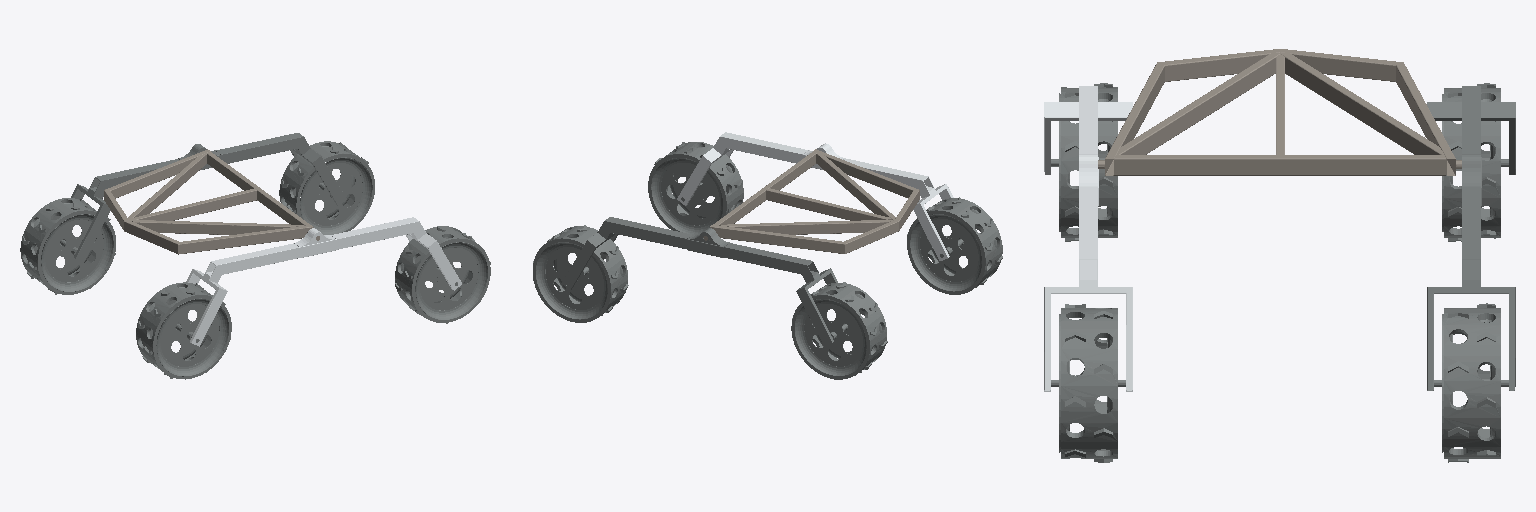
The robot description file, URDF, robot "finalassemdoneright":
<?xml version="1.0"?>
<!-- This URDF was automatically created by SolidWorks to URDF Exporter! Originally created by [author] ([email redacted]) 
     Commit Version: 1.6.0-4-g7f85cfe  Build Version: 1.6.7995.38578
     For more information, please see http://wiki.ros.org/sw_urdf_exporter -->
<robot name="finalassemdoneright">
  <link name="rover_base">
    <inertial>
      <origin xyz="-0.215633362072026 9.56646294919539E-06 -0.0191770149708499" rpy="0 0 0" />
      <mass value="3.38632551346396" />
      <inertia ixx="0.0339951534702215" ixy="4.07301137981989E-07" ixz="2.1569330359615E-09" iyy="0.0473454419155019" iyz="-1.19495167767491E-10" izz="0.0801303818373678" />
    </inertial>
    <visual>
      <origin xyz="0 0 0" rpy="0 0 0" />
      <geometry>
        <mesh filename="package://finalassemdoneright/meshes/rover_base.STL" />
      </geometry>
      <material name="">
        <color rgba="0.647058823529412 0.619607843137255 0.588235294117647 1" />
      </material>
    </visual>
    <collision>
      <origin xyz="0 0 0" rpy="0 0 0" />
      <geometry>
        <mesh filename="package://finalassemdoneright/meshes/rover_base.STL" />
      </geometry>
    </collision>
  </link>
  <link name="Left_arm">
    <inertial>
      <origin xyz="-0.000256566433952554 0.0831497310894191 -0.000723080155142997" rpy="0 0 0" />
      <mass value="3.92316481248626" />
      <inertia ixx="0.0052807689036577" ixy="6.52589354477702E-08" ixz="9.75504870574046E-11" iyy="0.106186347196482" iyz="1.4999457750013E-10" izz="0.108137196053463" />
    </inertial>
    <visual>
      <origin xyz="0 0 0" rpy="0 0 0" />
      <geometry>
        <mesh filename="package://finalassemdoneright/meshes/Left_arm.STL" />
      </geometry>
      <material name="">
        <color rgba="0.529411764705882 0.549019607843137 0.549019607843137 1" />
      </material>
    </visual>
    <collision>
      <origin xyz="0 0 0" rpy="0 0 0" />
      <geometry>
        <mesh filename="package://finalassemdoneright/meshes/Left_arm.STL" />
      </geometry>
    </collision>
  </link>
  <joint name="LeftArm" type="revolute">
    <origin xyz="-0.0030459 0.3865 -0.019177" rpy="-1.5708 0.02417 -3.9896E-05" />
    <parent link="rover_base" />
    <child link="Left_arm" />
    <axis xyz="0 0 -1" />
    <limit lower="0" upper="0" effort="0" velocity="0" />
  </joint>
  <link name="Front_left_wheel">
    <inertial>
      <origin xyz="3.38719052805914E-09 1.95898309296449E-07 0.00123583012451922" rpy="0 0 0" />
      <mass value="2.15759144628966" />
      <inertia ixx="0.0193867868934573" ixy="-3.68743577331306E-08" ixz="2.28589587219819E-08" iyy="0.0193867834497432" iyz="-7.59597356737873E-09" izz="0.035931581449621" />
    </inertial>
    <visual>
      <origin xyz="0 0 0" rpy="0 0 0" />
      <geometry>
        <mesh filename="package://finalassemdoneright/meshes/Front_left_wheel.STL" />
      </geometry>
      <material name="">
        <color rgba="0.529411764705882 0.549019607843137 0.549019607843137 1" />
      </material>
    </visual>
    <collision>
      <origin xyz="0 0 0" rpy="0 0 0" />
      <geometry>
        <mesh filename="package://finalassemdoneright/meshes/Front_left_wheel.STL" />
      </geometry>
    </collision>
  </link>
  <joint name="FrontLeftWheel" type="continuous">
    <origin xyz="0.500099209351754 0.244618225407582 -0.000762000000002039" rpy="0 0 -0.0241704449199232" />
    <parent link="Left_arm" />
    <child link="Front_left_wheel" />
    <axis xyz="0 0 1" />
  </joint>
  <link name="Rear_left_wheel">
    <inertial>
      <origin xyz="3.38719002845878E-09 1.95898309074405E-07 0.00123583012451955" rpy="0 0 0" />
      <mass value="2.15759144628965" />
      <inertia ixx="0.0193867868934574" ixy="-3.68743577242217E-08" ixz="2.28589587246662E-08" iyy="0.019386783449743" iyz="-7.59597356728696E-09" izz="0.0359315814496209" />
    </inertial>
    <visual>
      <origin xyz="0 0 0" rpy="0 0 0" />
      <geometry>
        <mesh filename="package://finalassemdoneright/meshes/Rear_left_wheel.STL" />
      </geometry>
      <material name="">
        <color rgba="0.529411764705882 0.549019607843137 0.549019607843137 1" />
      </material>
    </visual>
    <collision>
      <origin xyz="0 0 0" rpy="0 0 0" />
      <geometry>
        <mesh filename="package://finalassemdoneright/meshes/Rear_left_wheel.STL" />
      </geometry>
    </collision>
  </link>
  <joint name="RearLeftWheel" type="continuous">
    <origin xyz="-0.500660790648241 0.244618225407579 -0.000762000000000707" rpy="0 0 -0.0241704449199232" />
    <parent link="Left_arm" />
    <child link="Rear_left_wheel" />
    <axis xyz="0 0 1" />
  </joint>
  <link name="Right_arm">
    <inertial>
      <origin xyz="-0.00231308206858527 0.0831179478688312 -0.000723080155048211" rpy="0 0 0" />
      <mass value="3.92316481243412" />
      <inertia ixx="0.00534249487807238" ixy="-0.00249493187347114" ixz="9.3806783112558E-11" iyy="0.106124621225874" iyz="1.52360423948609E-10" izz="0.10813719605729" />
    </inertial>
    <visual>
      <origin xyz="0 0 0" rpy="0 0 0" />
      <geometry>
        <mesh filename="package://finalassemdoneright/meshes/Right_arm.STL" />
      </geometry>
      <material name="">
        <color rgba="0.898039215686275 0.917647058823529 0.929411764705882 1" />
      </material>
    </visual>
    <collision>
      <origin xyz="0 0 0" rpy="0 0 0" />
      <geometry>
        <mesh filename="package://finalassemdoneright/meshes/Right_arm.STL" />
      </geometry>
    </collision>
  </link>
  <joint name="RightArm" type="revolute">
    <origin xyz="-0.0030767 -0.38676 -0.019177" rpy="-1.5708 0 -3.9896E-05" />
    <parent link="rover_base" />
    <child link="Right_arm" />
    <axis xyz="0 0 1" />
    <limit lower="0" upper="0" effort="0" velocity="0" />
  </joint>
  <link name="Front_right_wheel">
    <inertial>
      <origin xyz="7.94071999266066E-08 1.11401112168341E-07 0.0012358239781311" rpy="0 0 0" />
      <mass value="2.15759094085748" />
      <inertia ixx="0.0193867614947669" ixy="-2.32531028203293E-08" ixz="2.21377761754815E-08" iyy="0.0193868129604204" iyz="-1.68070612577714E-08" izz="0.0359315855993195" />
    </inertial>
    <visual>
      <origin xyz="0 0 0" rpy="0 0 0" />
      <geometry>
        <mesh filename="package://finalassemdoneright/meshes/Front_right_wheel.STL" />
      </geometry>
      <material name="">
        <color rgba="0.529411764705882 0.549019607843137 0.549019607843137 1" />
      </material>
    </visual>
    <collision>
      <origin xyz="0 0 0" rpy="0 0 0" />
      <geometry>
        <mesh filename="package://finalassemdoneright/meshes/Front_right_wheel.STL" />
      </geometry>
    </collision>
  </link>
  <joint name="FrontRightWheel" type="continuous">
    <origin xyz="0.493895922533436 0.256912656559873 -0.000762000000002372" rpy="0 0 0" />
    <parent link="Right_arm" />
    <child link="Front_right_wheel" />
    <axis xyz="0 0 1" />
  </joint>
  <link name="Rear_right_wheel">
    <inertial>
      <origin xyz="3.38719058357029E-09 1.95898309296449E-07 0.00123583012451853" rpy="0 0 0" />
      <mass value="2.15759144628968" />
      <inertia ixx="0.0193867868934575" ixy="-3.68743577382929E-08" ixz="2.28589587110465E-08" iyy="0.0193867834497432" iyz="-7.59597356524807E-09" izz="0.0359315814496211" />
    </inertial>
    <visual>
      <origin xyz="0 0 0" rpy="0 0 0" />
      <geometry>
        <mesh filename="package://finalassemdoneright/meshes/Rear_right_wheel.STL" />
      </geometry>
      <material name="">
        <color rgba="0.529411764705882 0.549019607843137 0.549019607843137 1" />
      </material>
    </visual>
    <collision>
      <origin xyz="0 0 0" rpy="0 0 0" />
      <geometry>
        <mesh filename="package://finalassemdoneright/meshes/Rear_right_wheel.STL" />
      </geometry>
    </collision>
  </link>
  <joint name="RearRightWheel" type="continuous">
    <origin xyz="-0.506557922109957 0.232160235703112 -0.000762000000003649" rpy="0 0 0" />
    <parent link="Right_arm" />
    <child link="Rear_right_wheel" />
    <axis xyz="0 0 1" />
  </joint>
</robot>

--- Facts derived from the render (not from the file) ---
Views: 3 orthographic renders of the robot side by side, from view 1: azimuth 30°, elevation 25°; view 2: azimuth 150°, elevation 25°; view 3: azimuth 270°, elevation 25°.
Robot: finalassemdoneright — 7 links, 6 joints (2 revolute, 4 continuous); root link rover_base; default pose: all joints at 0.
Visible links, largest first — view 1: rover_base, Rear_left_wheel, Rear_right_wheel, Front_right_wheel, Front_left_wheel, Right_arm, Left_arm; view 2: rover_base, Rear_left_wheel, Rear_right_wheel, Front_left_wheel, Front_right_wheel, Left_arm, Right_arm; view 3: rover_base, Front_left_wheel, Front_right_wheel, Right_arm, Left_arm, Rear_right_wheel, Rear_left_wheel.
Link boxes in pixels (x1,y1,x2,y2): rover_base: (104,149,319,254); Rear_left_wheel: (20,198,115,294); Rear_right_wheel: (136,282,231,379); Front_right_wheel: (395,226,490,323); Front_left_wheel: (279,141,374,234); Right_arm: (186,217,461,346); Left_arm: (71,133,346,261); rover_base: (703,149,919,253); Rear_left_wheel: (791,282,887,379); Rear_right_wheel: (907,197,1002,294); Front_left_wheel: (533,225,628,322); Front_right_wheel: (648,142,743,234); Left_arm: (561,217,837,345); Right_arm: (677,132,953,260); rover_base: (1098,49,1461,175); Front_left_wheel: (1434,303,1508,462); Front_right_wheel: (1051,304,1125,462); Right_arm: (1044,86,1132,391); Left_arm: (1427,86,1515,390); Rear_right_wheel: (1051,83,1117,241); Rear_left_wheel: (1442,83,1508,241).
Size in the robot's own frame: 1.32 by 0.9511 by 0.4395 metres.
Meshes: 7 distinct files referenced, 7 mesh visuals loaded (7 binary STL).